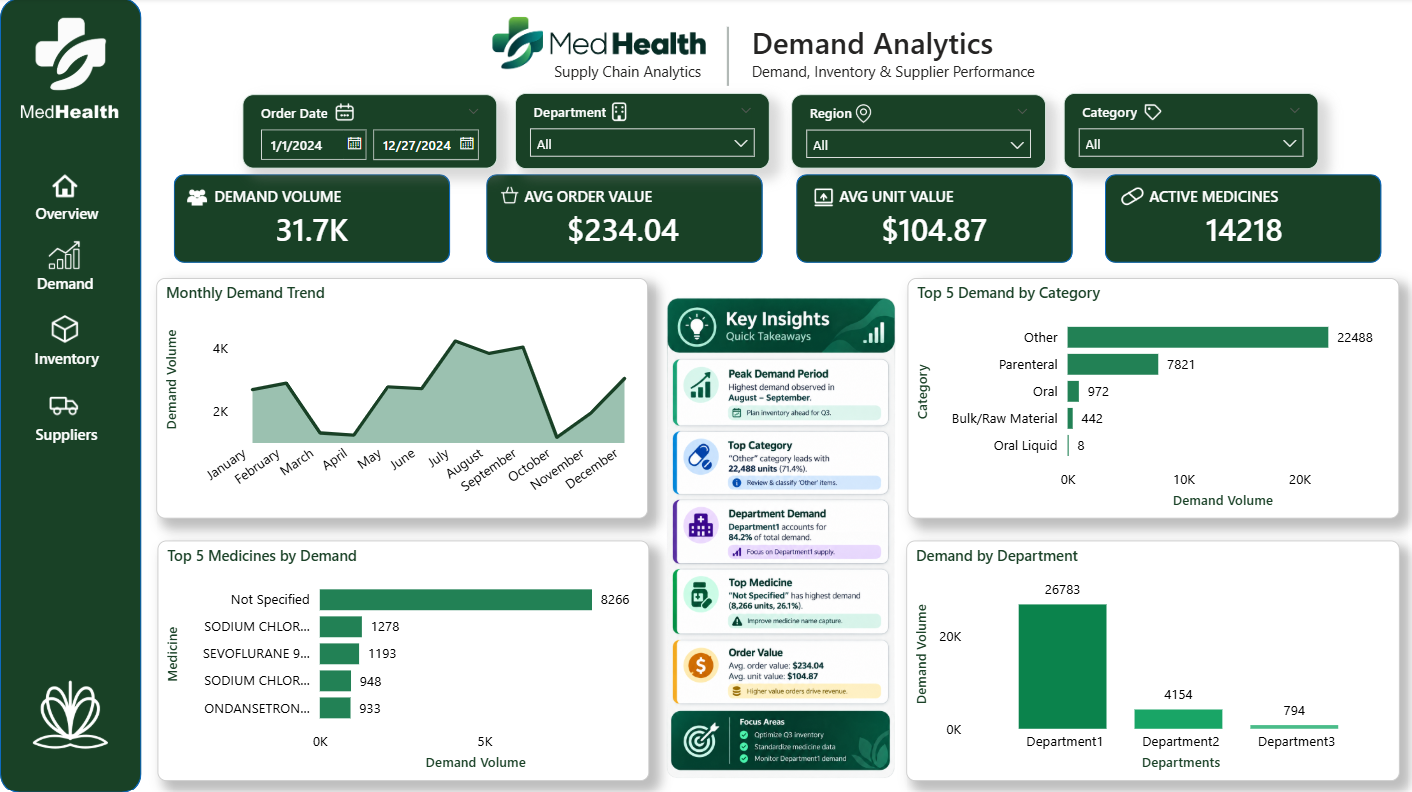

The dashboard page shown, as its layout file describes it:
{"tool":"powerbi","page":{"name":"Demand Analytics","canvas":[1280,720],"ordinal":1},"visuals":[{"type":"shape","box":[0,0,127.9,719.8],"z":0},{"type":"image","box":[424.4,0,234.9,80.2],"z":0,"group":"g1"},{"type":"image","box":[34.5,143.5,50,52.3],"z":0,"group":"g3"},{"type":"image","box":[23.3,0,81.4,101.2],"z":1000},{"type":"shape","box":[624.4,25.6,68.6,53.5],"z":1000,"group":"g1"},{"type":"slicer","fields":{"Values":["demand_sales.Order_Date"]},"box":[219.8,87.3,230.2,67.4],"z":1000,"group":"g2"},{"type":"textbox","box":[27.3,180.9,69.9,31.9],"z":1000,"group":"g3"},{"type":"textbox","box":[675.6,17.4,268.6,46.5],"z":2000,"group":"g1"},{"type":"shape","box":[157,159.3,250,80.2],"z":2000},{"type":"image","box":[34.5,206.3,50,52.3],"z":2000,"group":"g3"},{"type":"textbox","box":[675.6,52.3,290.7,30.2],"z":3000,"group":"g1"},{"type":"slicer","fields":{"Values":["demand_sales.Dept"]},"box":[466.3,86.1,230.2,68.6],"z":3000,"group":"g2"},{"type":"shape","box":[439.5,159.3,250,80.2],"z":3000},{"type":"textbox","box":[28.6,244.7,66.2,31.9],"z":3000,"group":"g3"},{"type":"textbox","box":[496.5,52.3,153.5,30.2],"z":4000,"group":"g1"},{"type":"image","box":[34.5,272.6,50,52.3],"z":4000,"group":"g3"},{"type":"image","box":[0,600,127.9,119.8],"z":4000},{"type":"image","box":[7,80.2,134.9,47.7],"z":5000},{"type":"slicer","fields":{"Values":["demand_sales.Region"]},"box":[716.3,87.3,230.2,67.4],"z":5000,"group":"g2"},{"type":"textbox","box":[23,312.1,77.3,28.2],"z":5000,"group":"g3"},{"type":"group","id":"g1","title":"Group 1","box":[424.4,0,541.9,82.6],"z":6000},{"type":"slicer","fields":{"Values":["demand_sales.Category"]},"box":[962.8,86.1,230.2,68.6],"z":6000,"group":"g2"},{"type":"image","box":[34.5,338.8,50,52.3],"z":6000,"group":"g3"},{"type":"group","id":"g2","title":"Group 3","box":[219.8,82.6,973.3,72.1],"z":7000},{"type":"textbox","box":[27.1,380.8,72.4,30.7],"z":7000,"group":"g3"},{"type":"image","box":[291.9,83.8,40.7,37.2],"z":8000,"group":"g2"},{"type":"image","box":[157,161.6,43,36],"z":8000},{"type":"shape","box":[719.8,159.3,250,80.2],"z":9000},{"type":"image","box":[539.6,82.6,41.9,38.4],"z":10000,"group":"g2"},{"type":"shape","box":[1000,159.3,250,80.2],"z":10000},{"type":"card","title":"TOTAL SALES","fields":{"Values":["demand_sales.Demand Volume"]},"box":[157,172.1,250,76.7],"z":11000},{"type":"textbox","box":[188.4,165.1,133.7,27.9],"z":12000},{"type":"image","box":[766.3,87.3,31.4,33.7],"z":13000,"group":"g2"},{"type":"card","title":"TOTAL SALES","fields":{"Values":["demand_sales.Avg Order Value"]},"box":[438.4,172.1,250,76.7],"z":13000},{"type":"textbox","box":[469.6,164.6,136,27.9],"z":14000},{"type":"image","box":[439.5,159.3,43,36],"z":15000},{"type":"image","box":[1021,84.9,43,36],"z":16000,"group":"g2"},{"type":"card","title":"TOTAL SALES","fields":{"Values":["demand_sales.Avg Unit Value"]},"box":[719.8,172.1,250,76.7],"z":16000},{"type":"textbox","box":[753.8,165.4,119.2,28.2],"z":17000},{"type":"image","box":[719.8,158.1,50,43],"z":18000},{"type":"card","title":"TOTAL SALES","fields":{"Values":["demand_sales.Active Medicines"]},"box":[1001.2,172.1,250,76.7],"z":19000},{"type":"textbox","box":[1034.9,165.1,138.4,27.9],"z":20000},{"type":"image","box":[1000,155.8,50,43],"z":21000},{"type":"lineChart","title":"Monthly Demand Trend","fields":{"Category":["demand_sales.Order_Date.Variation.Date Hierarchy.Month"],"Y":["demand_sales.Demand Volume"]},"box":[141.9,253.5,445,217.4],"z":22000},{"type":"clusteredBarChart","title":"Top 5 Demand by Category","fields":{"Y":["demand_sales.Demand Volume"],"Category":["demand_sales.Category"]},"box":[821.2,253.8,445,217.5],"z":23000},{"type":"clusteredColumnChart","title":"Demand by Department","fields":{"Y":["demand_sales.Demand Volume"],"Category":["demand_sales.Dept"]},"box":[820,491.2,446.2,217.5],"z":24000},{"type":"clusteredBarChart","title":"Top 5 Medicines by Demand","fields":{"Category":["demand_sales.DrugName_Display"],"Y":["demand_sales.Demand Volume"]},"box":[142.5,491.2,445,217.5],"z":25000},{"type":"image","box":[552.2,264.4,310,452.2],"z":26000},{"type":"group","id":"g3","title":"Group 2","box":[23,143.5,77.3,268],"z":27000},{"type":"actionButton","box":[9.4,144.7,100,68.2],"z":28000},{"type":"actionButton","box":[9.4,208.2,100,64.7],"z":29000},{"type":"actionButton","box":[12.9,276.5,100,63.5],"z":30000},{"type":"actionButton","box":[10.6,350.6,100,61.2],"z":31000}]}

Visuals, with their boxes in screenshot pixels (x1, y1, x2, y2), scaled from the page's 1280x720 canvas onto the 1412x792 screenshot:
shape: select_region(0, 0, 141, 791)
image: select_region(468, 0, 727, 88)
image: select_region(38, 158, 93, 215)
image: select_region(26, 0, 115, 111)
shape: select_region(689, 28, 764, 87)
slicer - demand_sales.Order_Date: select_region(242, 96, 496, 170)
textbox: select_region(30, 199, 107, 234)
textbox: select_region(745, 19, 1042, 70)
shape: select_region(173, 175, 449, 263)
image: select_region(38, 227, 93, 284)
textbox: select_region(745, 58, 1066, 91)
slicer - demand_sales.Dept: select_region(514, 95, 768, 170)
shape: select_region(485, 175, 761, 263)
textbox: select_region(32, 269, 105, 304)
textbox: select_region(548, 58, 717, 91)
image: select_region(38, 300, 93, 357)
image: select_region(0, 660, 141, 791)
image: select_region(8, 88, 157, 141)
slicer - demand_sales.Region: select_region(790, 96, 1044, 170)
textbox: select_region(25, 343, 111, 374)
"Group 1" group: select_region(468, 0, 1066, 91)
slicer - demand_sales.Category: select_region(1062, 95, 1316, 170)
image: select_region(38, 373, 93, 430)
"Group 3" group: select_region(242, 91, 1316, 170)
textbox: select_region(30, 419, 110, 453)
image: select_region(322, 92, 367, 133)
image: select_region(173, 178, 221, 217)
shape: select_region(794, 175, 1070, 263)
image: select_region(595, 91, 641, 133)
shape: select_region(1103, 175, 1379, 263)
"TOTAL SALES" card: select_region(173, 189, 449, 274)
textbox: select_region(208, 182, 355, 212)
image: select_region(845, 96, 880, 133)
"TOTAL SALES" card: select_region(484, 189, 759, 274)
textbox: select_region(518, 181, 668, 212)
image: select_region(485, 175, 532, 215)
image: select_region(1126, 93, 1174, 133)
"TOTAL SALES" card: select_region(794, 189, 1070, 274)
textbox: select_region(832, 182, 963, 213)
image: select_region(794, 174, 849, 221)
"TOTAL SALES" card: select_region(1104, 189, 1380, 274)
textbox: select_region(1142, 182, 1294, 212)
image: select_region(1103, 171, 1158, 219)
"Monthly Demand Trend" lineChart: select_region(157, 279, 647, 518)
"Top 5 Demand by Category" clusteredBarChart: select_region(906, 279, 1397, 518)
"Demand by Department" clusteredColumnChart: select_region(905, 540, 1397, 780)
"Top 5 Medicines by Demand" clusteredBarChart: select_region(157, 540, 648, 780)
image: select_region(609, 291, 951, 788)
"Group 2" group: select_region(25, 158, 111, 453)
actionButton: select_region(10, 159, 121, 234)
actionButton: select_region(10, 229, 121, 300)
actionButton: select_region(14, 304, 125, 374)
actionButton: select_region(12, 386, 122, 453)
